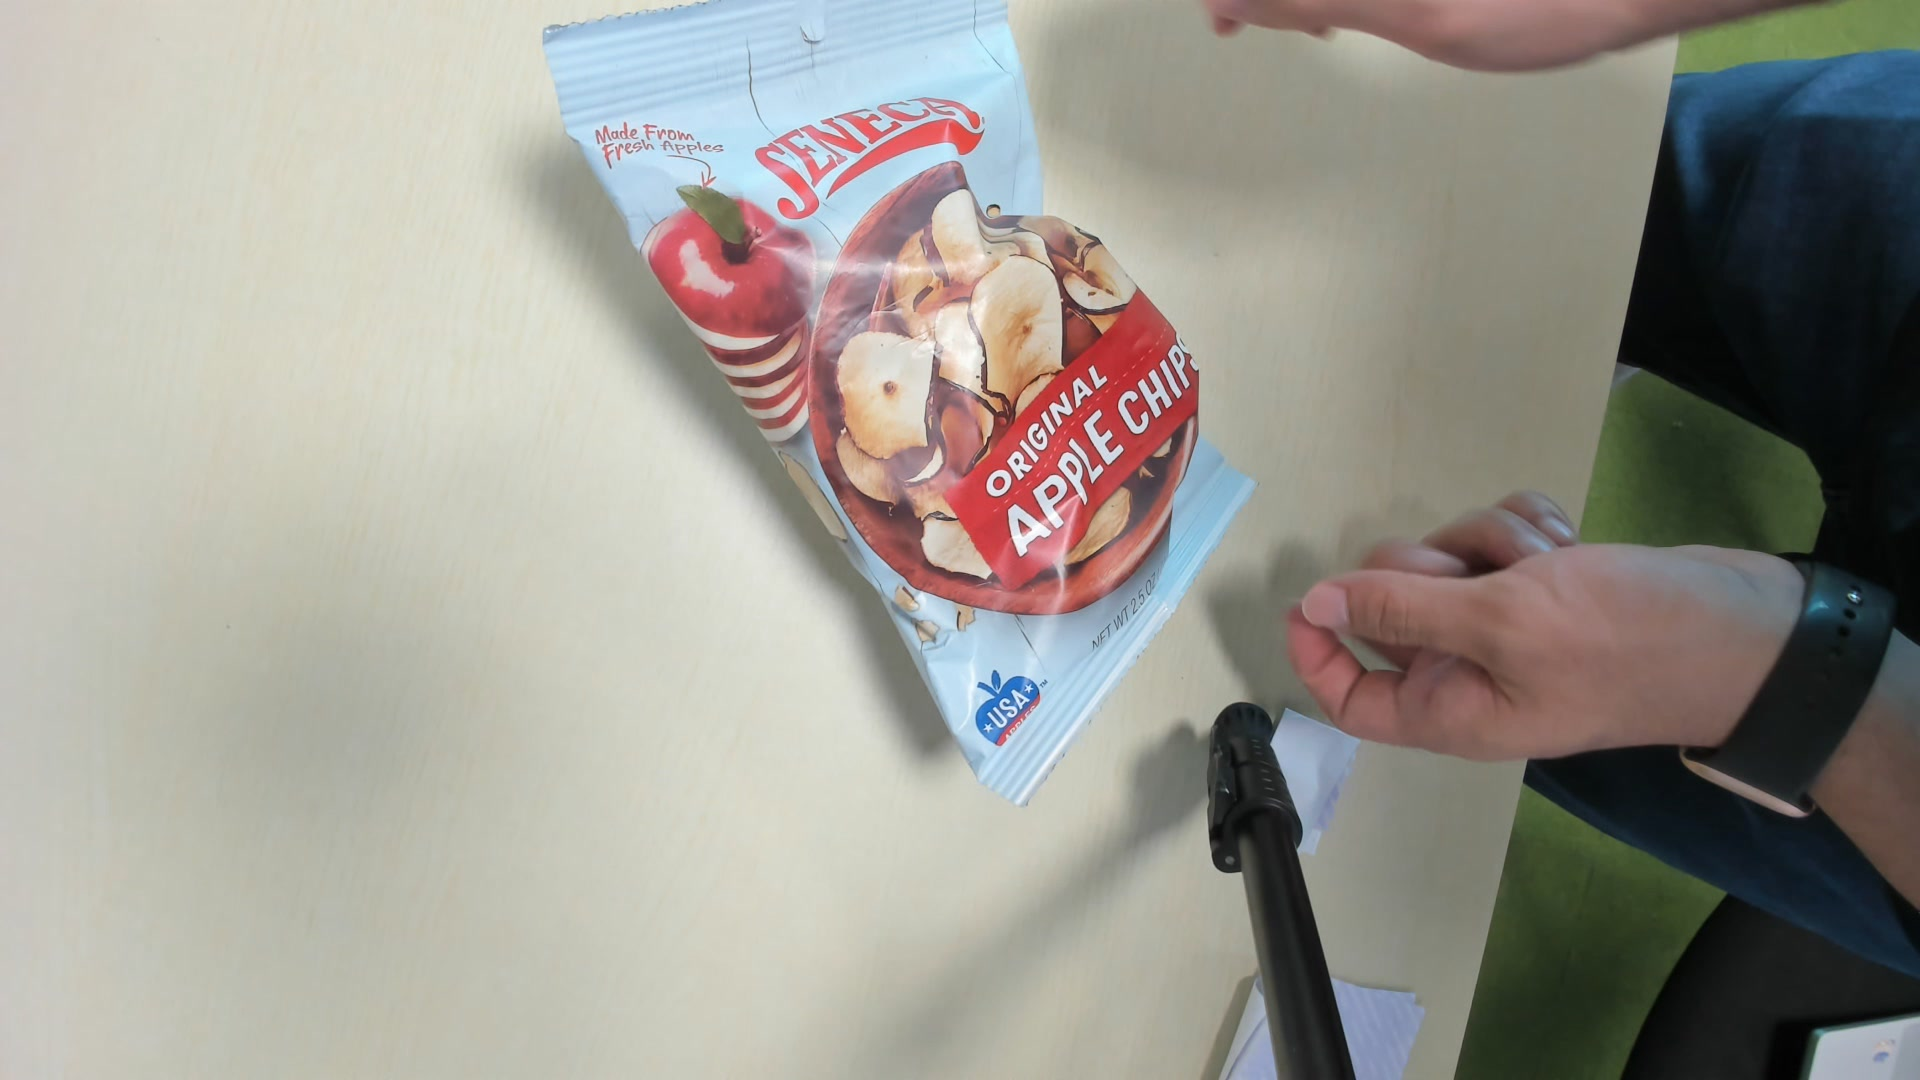PotatoChipsKeropok_0-99g_NonHalal_NonHealthy: (556, 18, 1251, 793)
